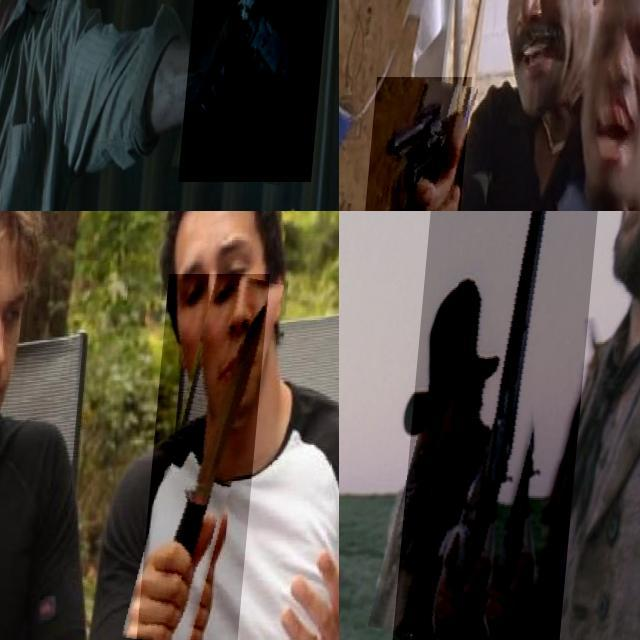-: (145, 274, 272, 640)
gun-knife-thesis - v11 Yolov5 augmented: (404, 211, 616, 640), (187, 0, 335, 182), (368, 77, 476, 211)
